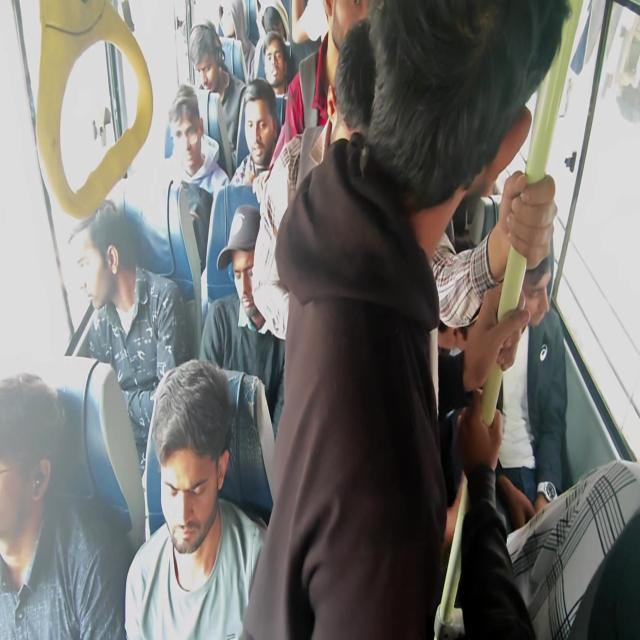person: (202, 207, 287, 441), (431, 307, 515, 536), (282, 0, 365, 176), (0, 374, 65, 563), (165, 84, 230, 258), (65, 209, 150, 336), (239, 79, 280, 170), (165, 490, 220, 555), (216, 1, 256, 78), (519, 245, 554, 321), (329, 0, 373, 51), (262, 30, 292, 97), (470, 193, 499, 248), (437, 313, 467, 356), (218, 5, 224, 18)
